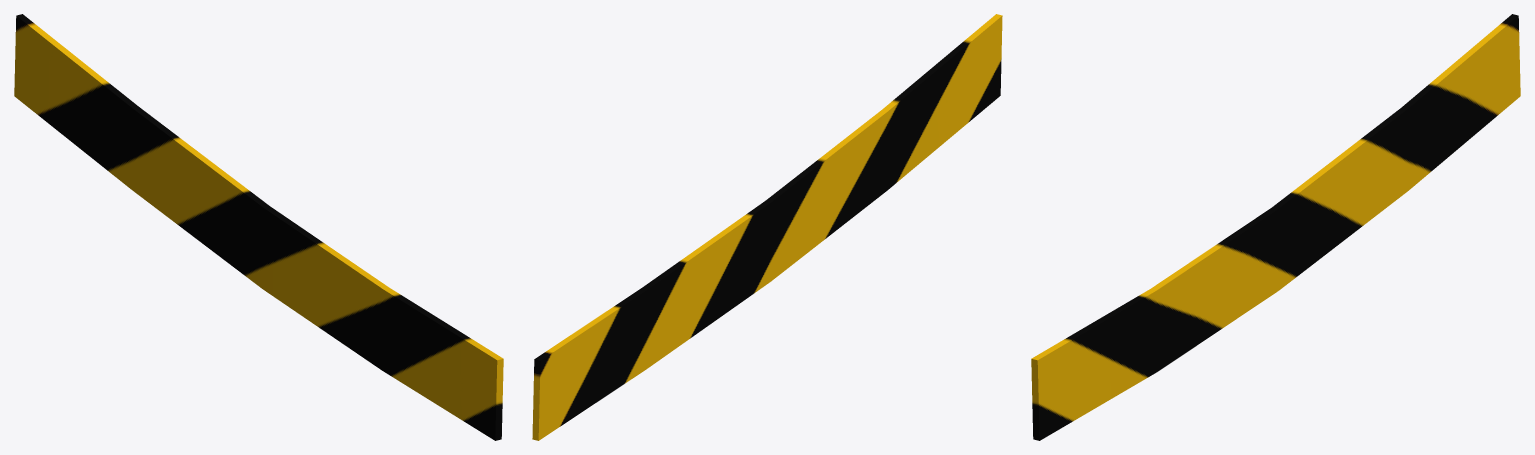
File: Tape_2_2.glb
3 renders of one model, left to right at view 1: azimuth 30°, elevation 25°; view 2: azimuth 150°, elevation 25°; view 3: azimuth 330°, elevation 25°, orthographic. The views are drawn at different scales.
Parts seen in each view (by area): view 1: Tape_2_2; view 2: Tape_2_2; view 3: Tape_2_2.
Boxes of the visible parts, bbox=[...] form: Tape_2_2: bbox=[14, 14, 503, 440]; Tape_2_2: bbox=[532, 14, 1002, 440]; Tape_2_2: bbox=[1031, 14, 1520, 440].
Size of the model in its own units: 0.0233 by 0.2384 by 2.01.
Materials: 1 (1 with a texture image).
